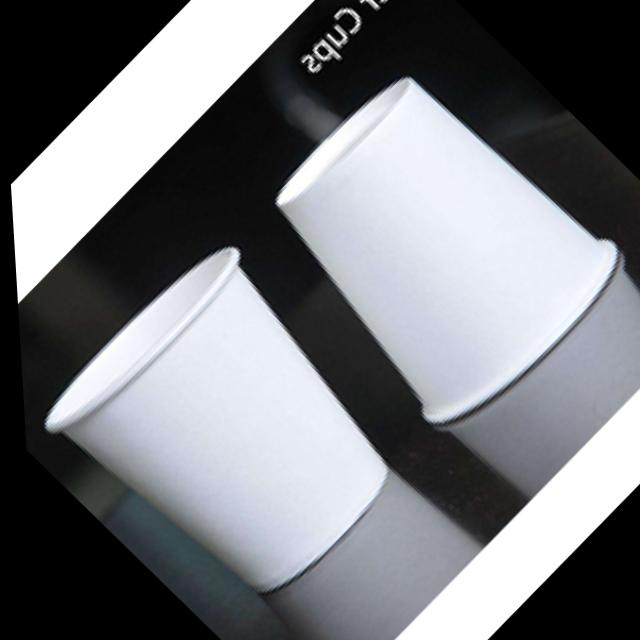paper_cups: (22, 232, 439, 630), (225, 53, 636, 445)
